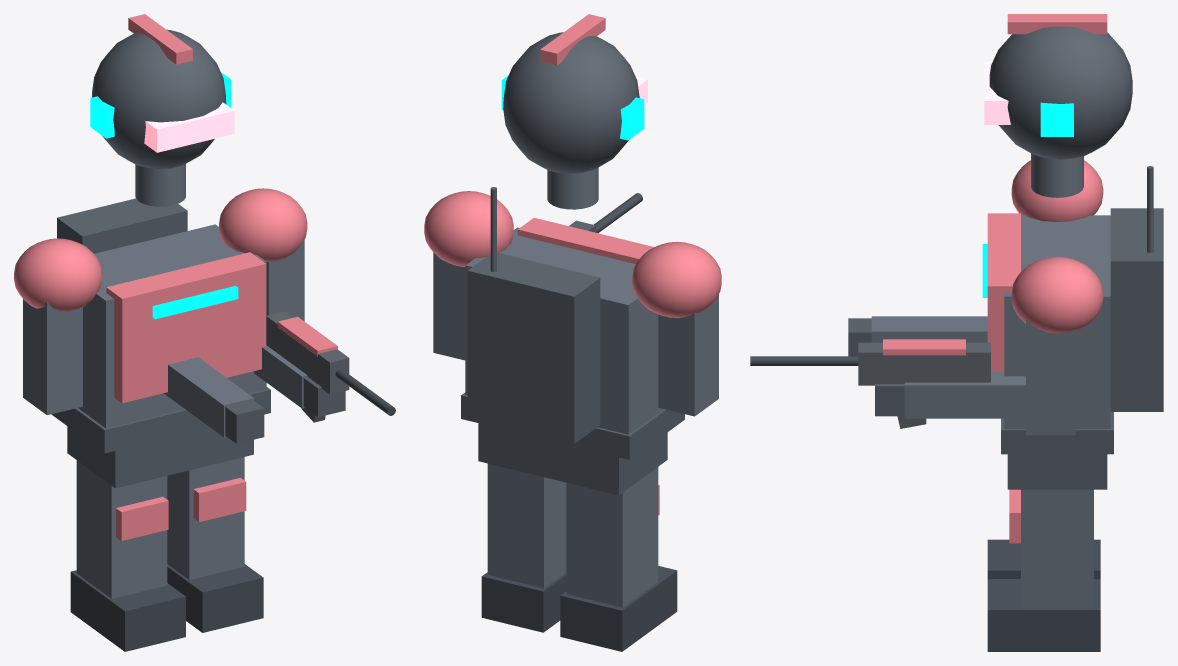
The model's file is enemy.glb.
The picture shows the model from 3 angles, left to right: view 1: azimuth 30°, elevation 25°; view 2: azimuth 150°, elevation 25°; view 3: azimuth 270°, elevation 25°; orthographic projection. The views are drawn at different scales.
Visible parts, largest first — view 1: body, legs, head, gun; view 2: body, legs, head, gun; view 3: body, head, legs, gun.
Part boxes in pixels (x1,y1,x2,y2): body: (14,164,345,488); legs: (70,457,263,651); head: (90,14,234,168); gun: (266,311,395,422); body: (424,167,721,495); legs: (481,463,677,651); head: (501,14,647,173); gun: (569,193,642,232); body: (848,153,1163,489); head: (984,14,1132,159); legs: (987,489,1100,651); gun: (750,339,990,428).
Size of the model in its own units: 1.02 by 1.99 by 1.24.
